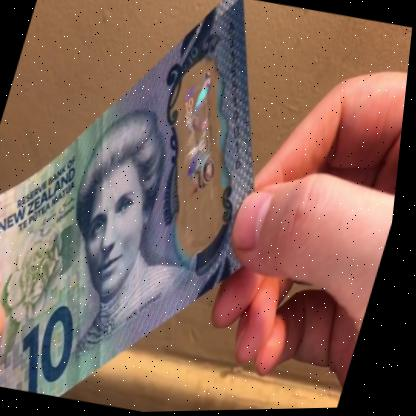10B: (156, 67, 246, 195)
